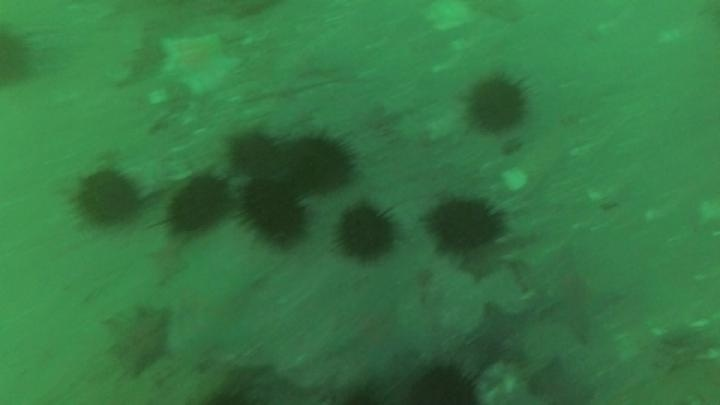echinus: (239, 177, 310, 246), (426, 195, 505, 255), (285, 132, 357, 195), (72, 166, 143, 229), (464, 71, 532, 135), (333, 200, 400, 264), (164, 173, 231, 237), (405, 361, 483, 405), (0, 23, 36, 90), (228, 131, 281, 176)
scallop: (422, 1, 474, 35), (499, 165, 530, 194)
starfish: (162, 226, 264, 362), (512, 237, 626, 340), (326, 292, 424, 369), (156, 30, 242, 98), (103, 304, 174, 378), (462, 301, 535, 369), (526, 354, 599, 405), (145, 230, 194, 286)
